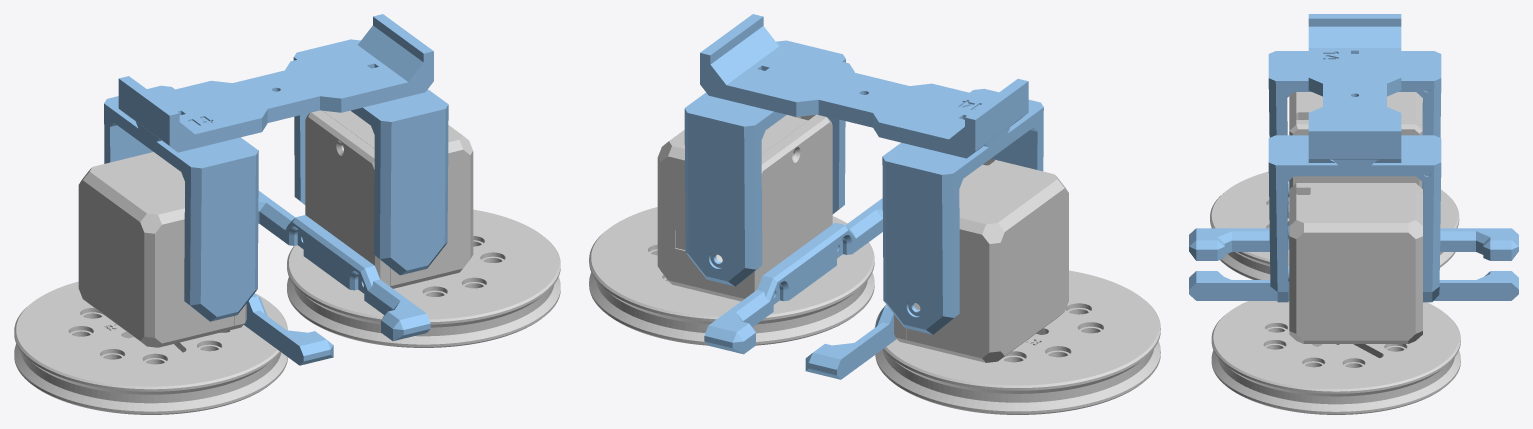
Rendered from Wheels-Walk-and-Roll.glb.
3 renders of one model, left to right at view 1: azimuth 30°, elevation 25°; view 2: azimuth 150°, elevation 25°; view 3: azimuth 270°, elevation 25°, orthographic. The views are drawn at different scales.
Parts seen in each view (by area): view 1: Node1, Node2; view 2: Node1, Node2; view 3: Node1, Node2.
Part boxes in pixels (box(x1,y1,x2,y2)): Node1: box(14, 110, 560, 414); Node2: box(104, 14, 448, 365); Node1: box(589, 114, 1160, 414); Node2: box(684, 14, 1043, 379); Node1: box(1210, 92, 1460, 414); Node2: box(1189, 14, 1518, 302).
Bounding box in the file's own units: 151 × 71.07 × 92.56.
